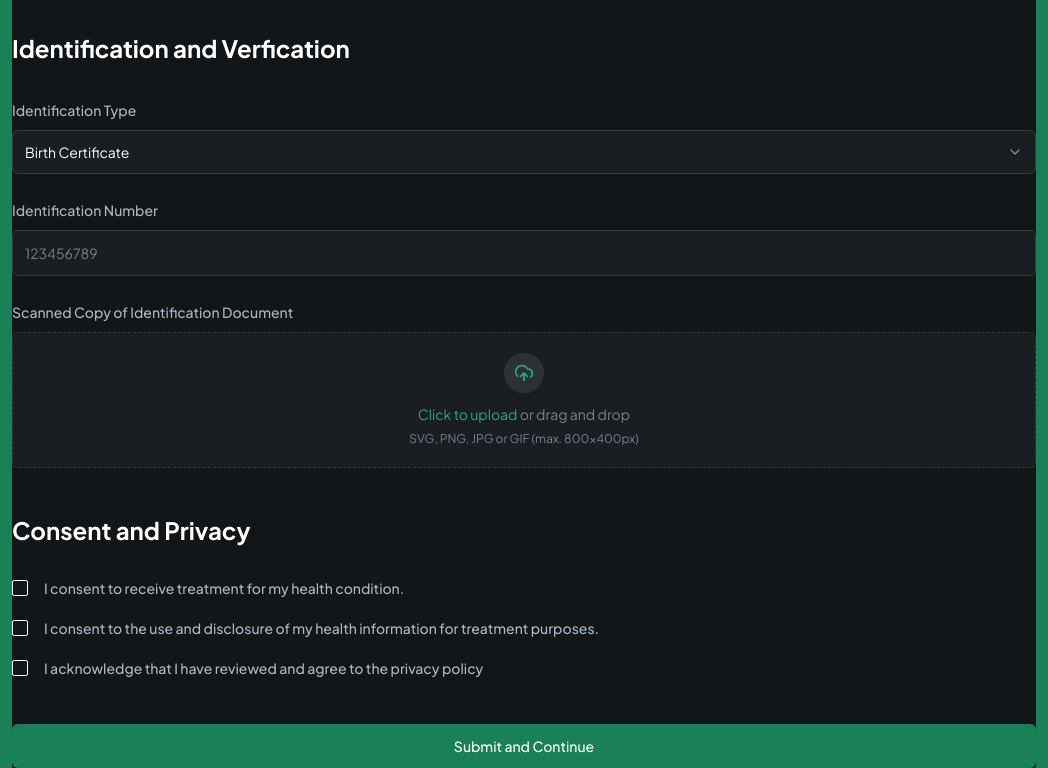
Test: RegisterForm › VAL-09/VAL-10 shows required-field and consent errors on an empty submit
The width and height of the screenshot is (1048, 768).
(page scrolled)
Click the button "Submit and Continue". click: (524, 746)
box: [12,724,1036,767]
(page scrolled)
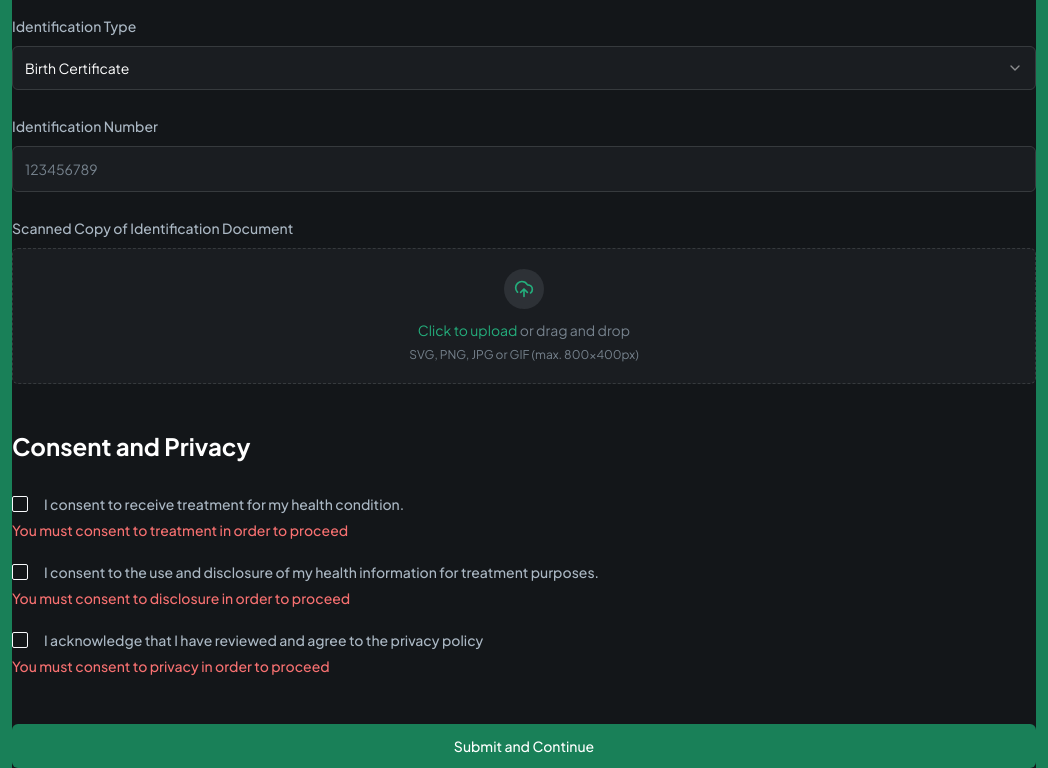
Now the text "You must consent to treatment in order to proceed" is shown, box [12,521,348,539]
Now the text "You must consent to disclosure in order to proceed" is shown, box [12,589,350,607]
Now the text "You must consent to privacy in order to proceed" is shown, box [12,657,330,675]
